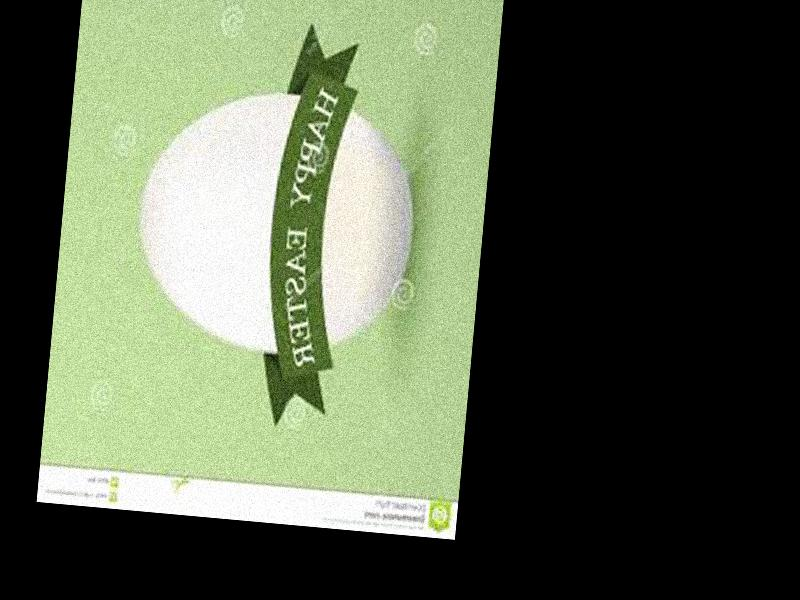Eggs: (129, 84, 422, 365)
